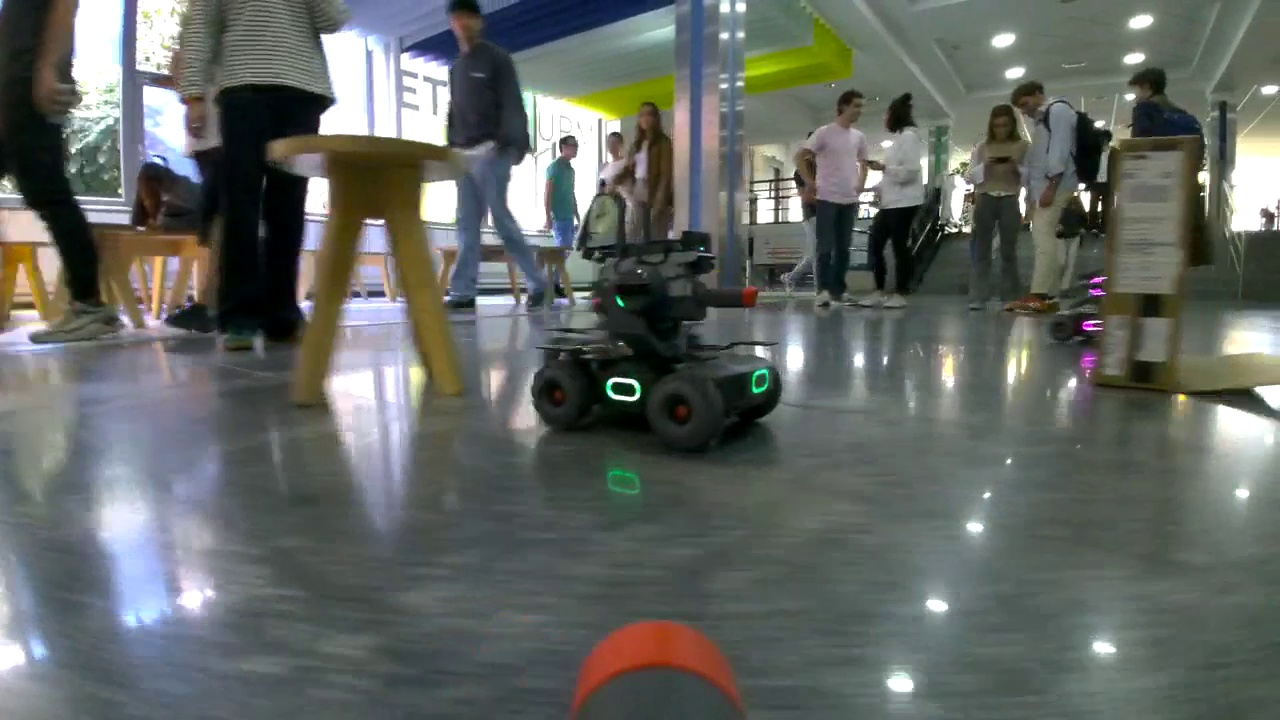robot: (530, 225, 790, 461), (1042, 269, 1116, 342)
